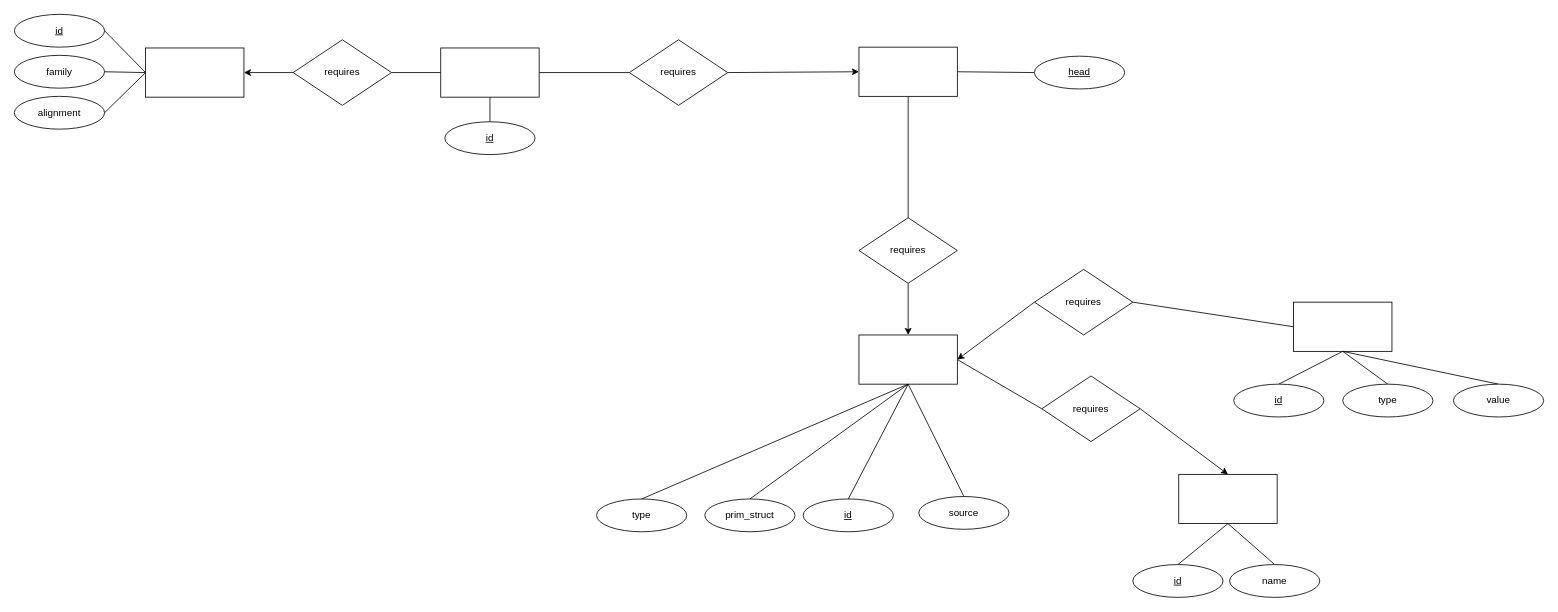
Some shapes in this 1558 by 612 pixel diagram are drawn without their labels. Here are the shapes that lost their labels. From the top down, the box of each, then its label:
(145, 47, 244, 97): Homestrad
(440, 47, 539, 97): Alignments
(858, 46, 957, 96): Proteins
(1293, 301, 1392, 351): Keywords
(858, 334, 957, 384): Sequences
(1178, 474, 1277, 524): Organisms
